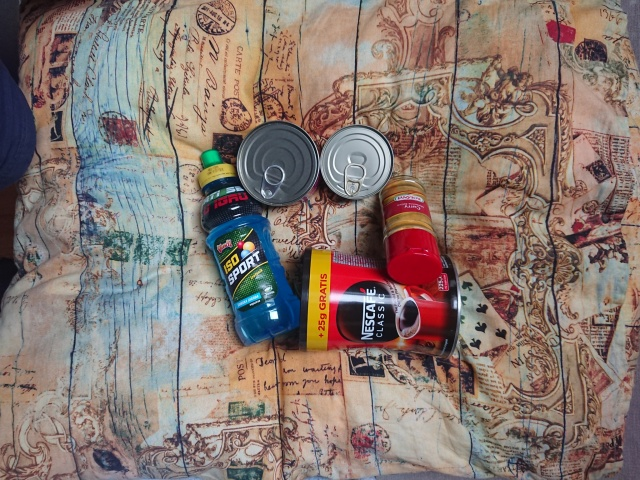Gavrilovic Pork Liver Pate 100g: (316, 121, 396, 203)
Giana Tuna Salad Mexico 185g: (234, 118, 322, 210)
Kotanyi Curry Spices Mix 70g: (377, 173, 445, 290)
Nescafe Classic 225g: (295, 243, 463, 363)
Vindi Iso Sport Forest Strawberries 500mL: (195, 146, 305, 349)
